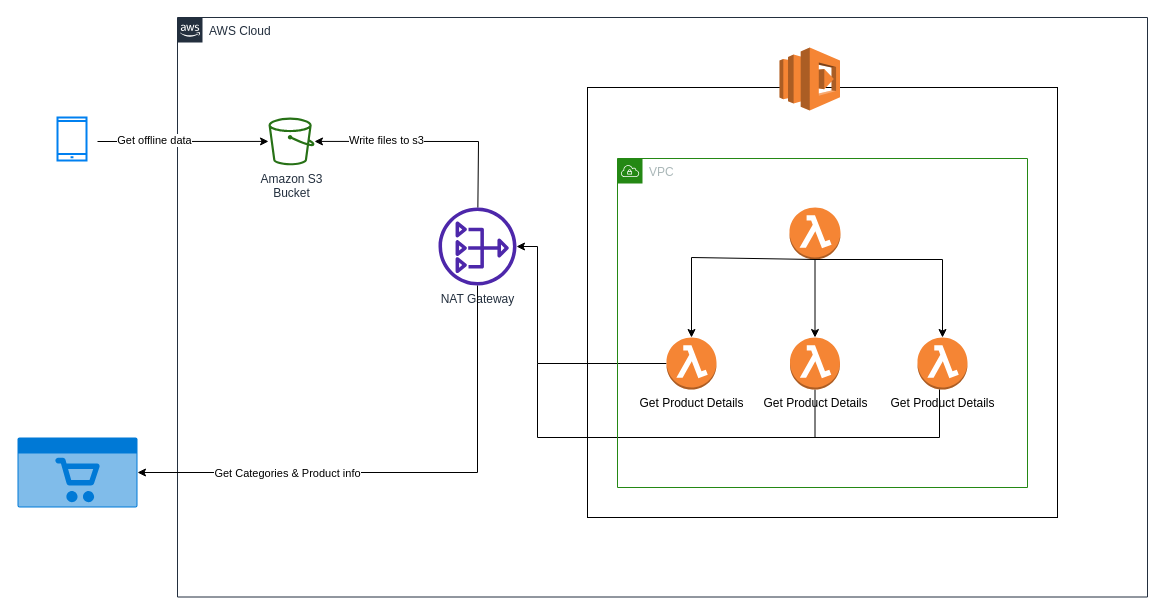
Image size: 1165x615. Some labels were removed from this diagram. The centre of each missing label's shape, as x and y in pixels:
Get Categories: point (814, 233)
Hybris: point (77, 472)
Mobile App: point (71, 138)
Step function: point (809, 78)
